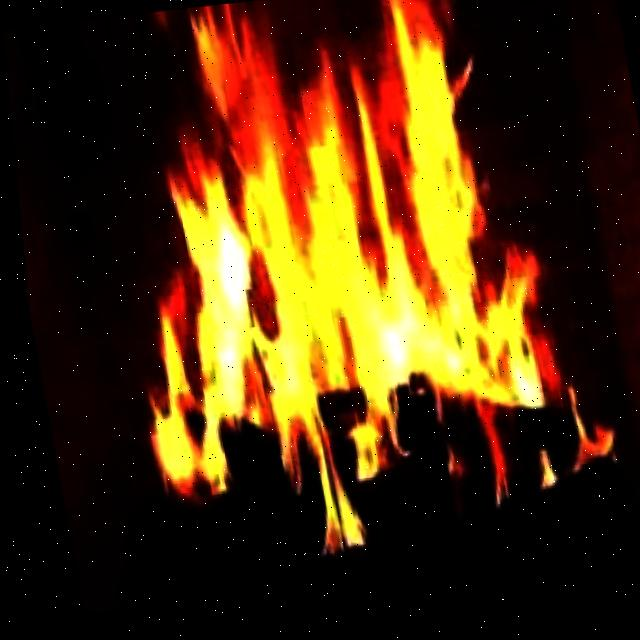Fire: (72, 0, 623, 577)
